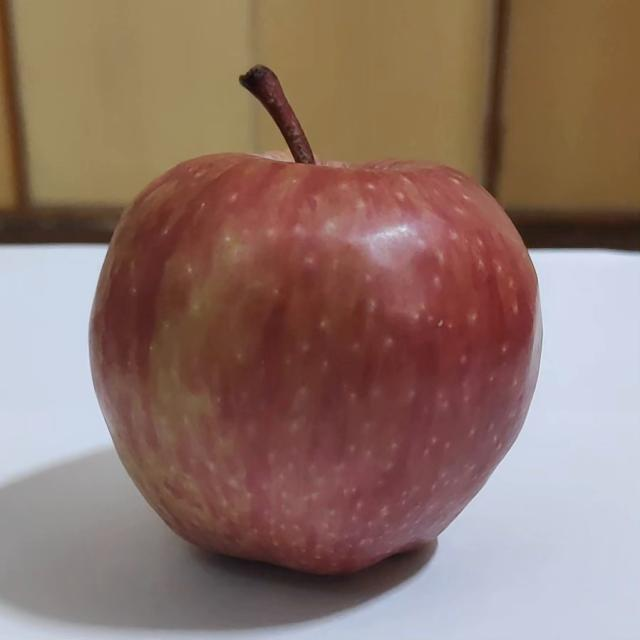apple: (90, 68, 552, 584)
